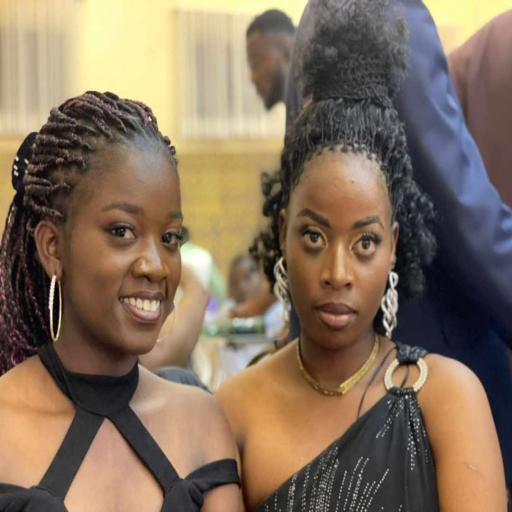LAURENE: (11, 82, 196, 386)
